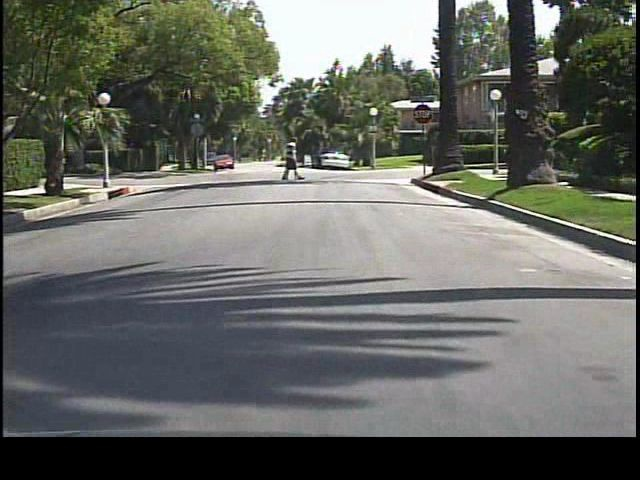person: (280, 136, 303, 184)
